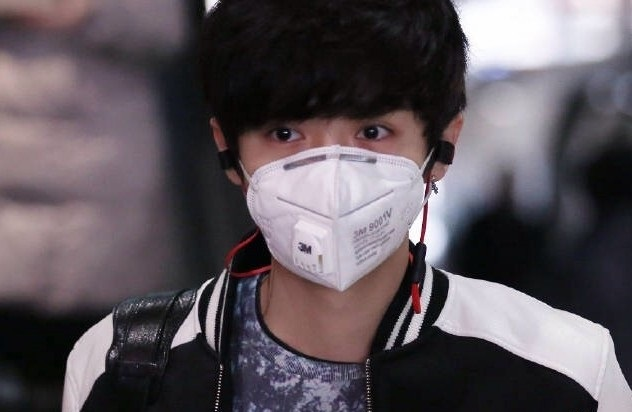face_mask: (247, 63, 428, 298)
